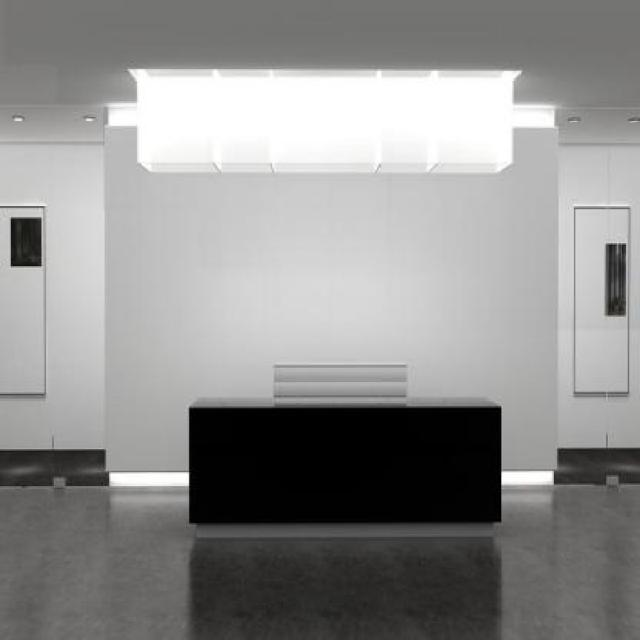frontdesk: (178, 378, 504, 548)
